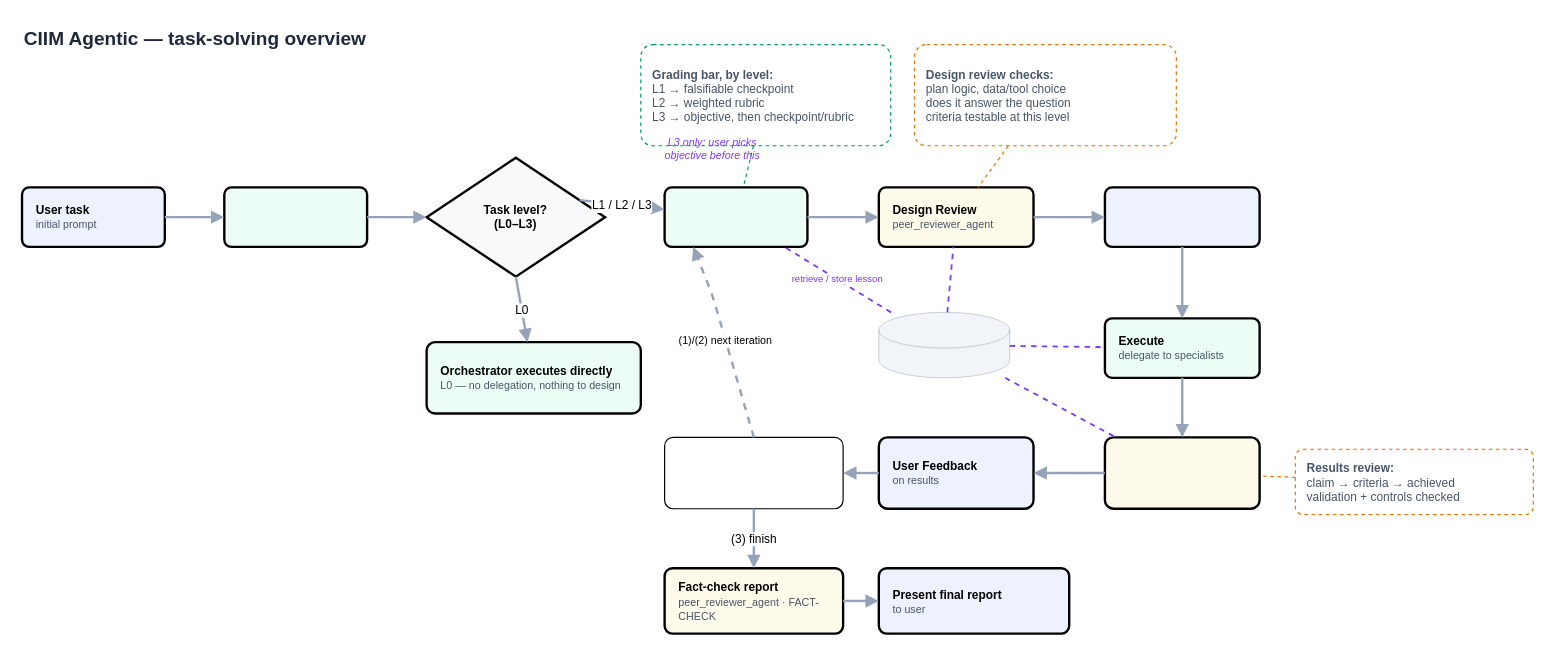
This 1554x655 diagram has some shape labels left out. Each missing label, with the box of its shape:
(1) Revise phase i (2) Go to phase i+1 (3) Finish (FINAL_PHASE): (663, 436, 843, 509)
Design study_designer_agent: (663, 186, 808, 248)
Interpret escalate if unclear: (223, 186, 368, 248)
Results Review peer_reviewer_agent: (1103, 436, 1260, 509)
User Feedback on design: (1103, 186, 1260, 248)
🗄️ Memory task · agents · lesson: (878, 312, 1009, 377)
